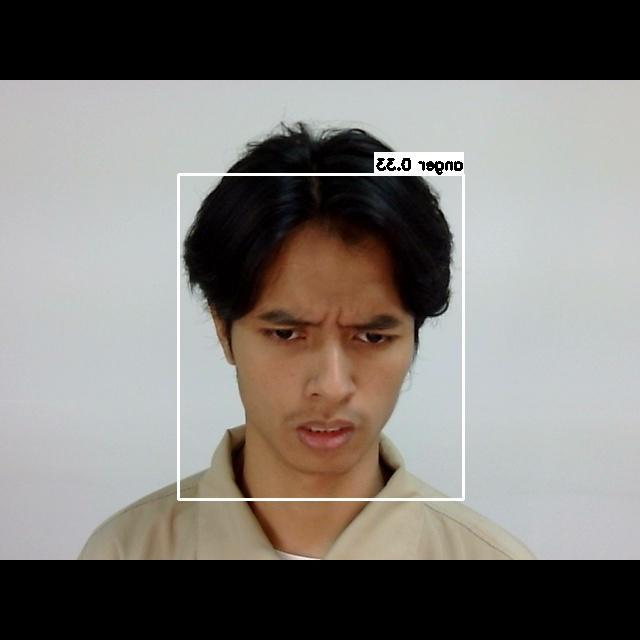Disgust: (219, 268, 414, 467)
